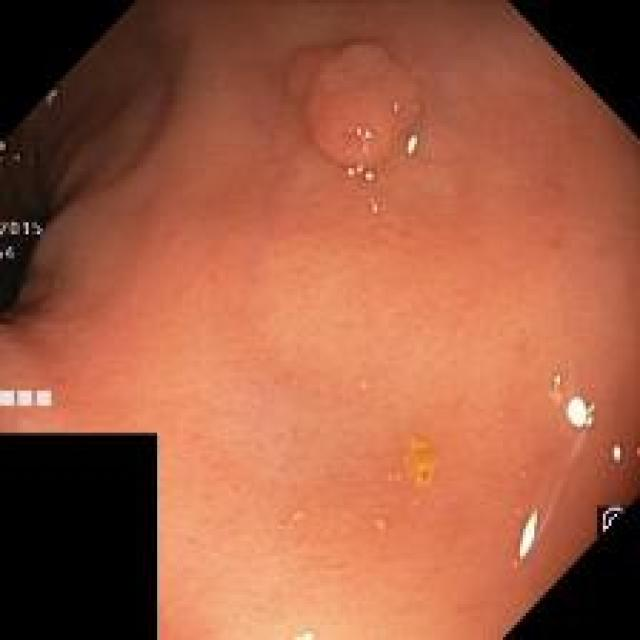Polyps: (304, 43, 420, 167)
